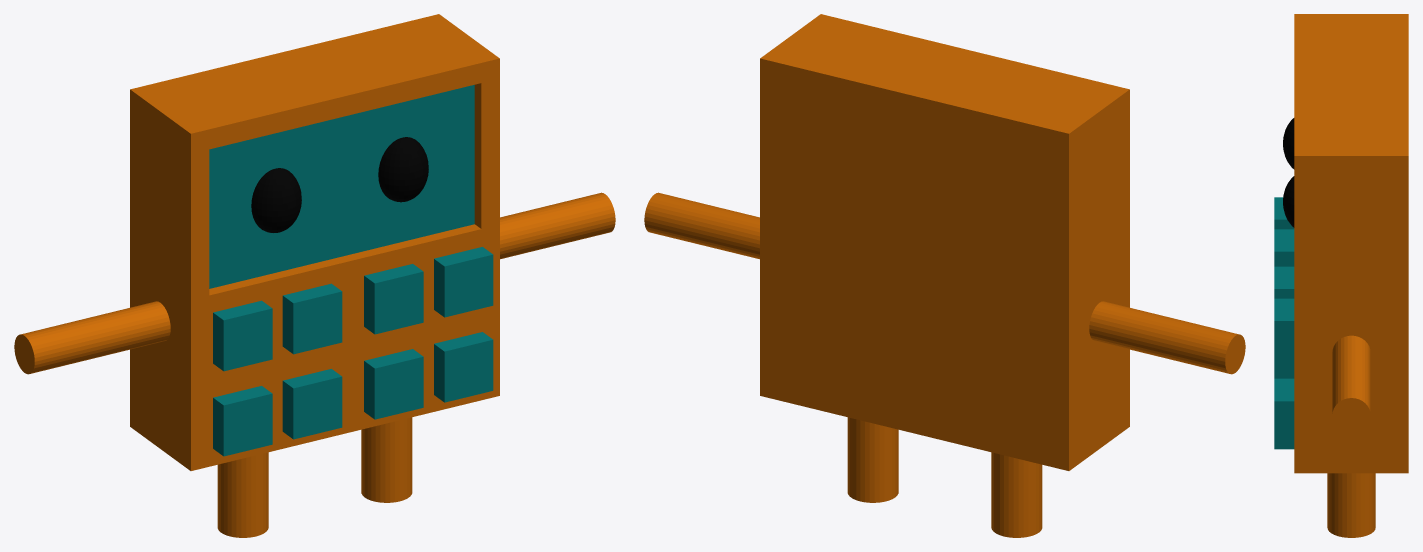
Rendered from GameBoy.obj.
The picture shows the model from 3 angles, left to right: view 1: azimuth 30°, elevation 25°; view 2: azimuth 150°, elevation 25°; view 3: azimuth 270°, elevation 25°; orthographic projection. The views are drawn at different scales.
Visible parts, largest first — view 1: body_Cube, button_Cube.001, Cylinder, Cylinder.001, eyes_Sphere; view 2: body_Cube, Cylinder, Cylinder.001; view 3: body_Cube, button_Cube.001, Cylinder, Cylinder.001, eyes_Sphere.
Boxes of the visible parts, x1,y1,x2,y2 form: body_Cube: [130, 14, 499, 470]; button_Cube.001: [213, 247, 493, 456]; Cylinder: [14, 192, 615, 374]; Cylinder.001: [217, 417, 412, 537]; eyes_Sphere: [251, 137, 428, 232]; body_Cube: [760, 14, 1129, 470]; Cylinder: [644, 192, 1245, 374]; Cylinder.001: [847, 417, 1042, 537]; body_Cube: [1294, 14, 1408, 473]; button_Cube.001: [1274, 197, 1294, 449]; Cylinder: [1332, 335, 1370, 432]; Cylinder.001: [1327, 473, 1375, 537]; eyes_Sphere: [1283, 118, 1294, 227].
Size of the model in its own units: 3.76 by 2.69 by 0.8008.
